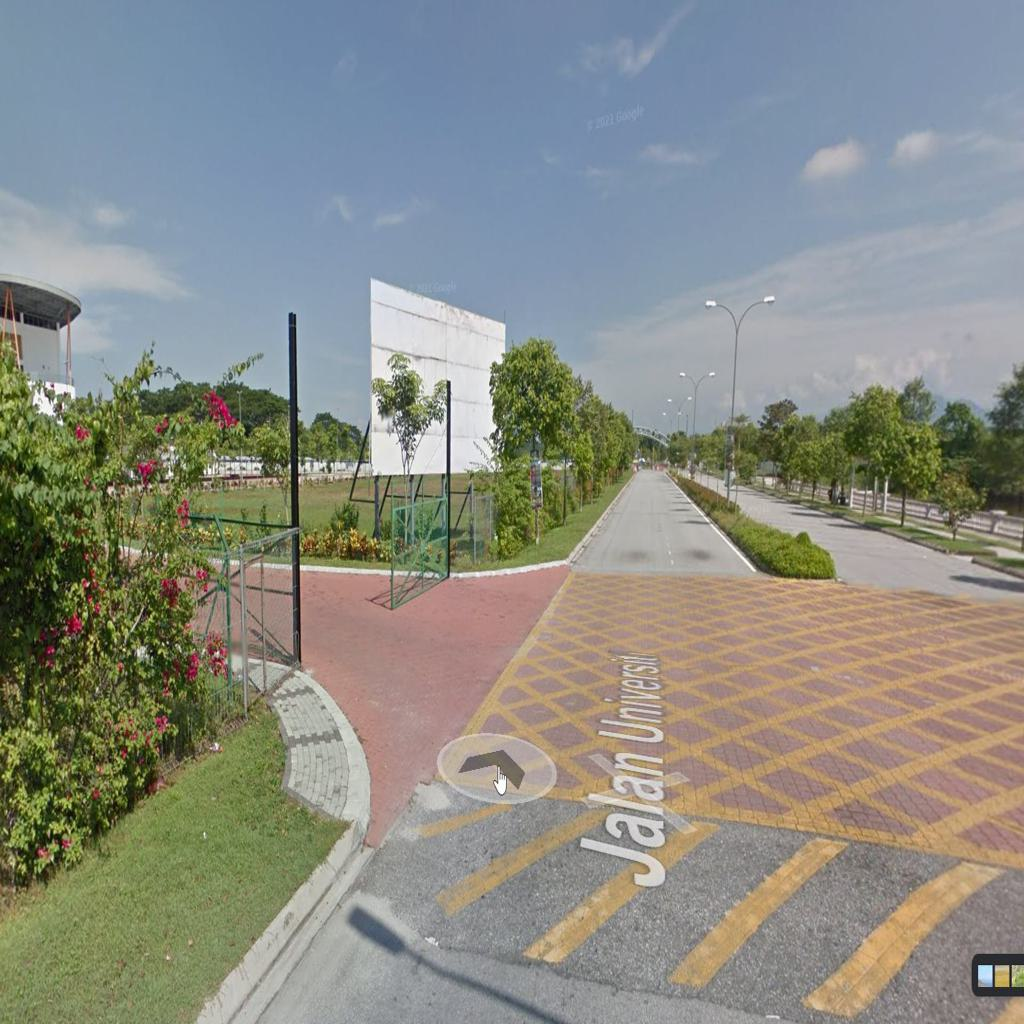Junction: (243, 519, 629, 866)
